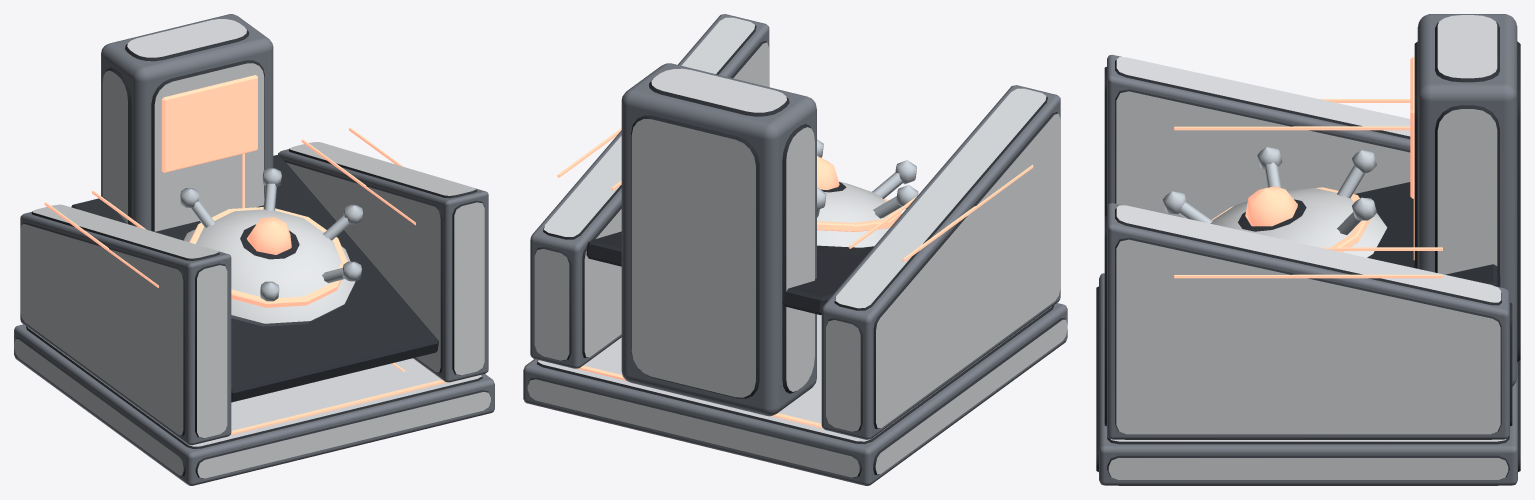
Rendered from R4X_ExplosiveTrapDeployer.fbx.
The picture shows the model from 3 angles, left to right: view 1: azimuth 30°, elevation 25°; view 2: azimuth 150°, elevation 25°; view 3: azimuth 270°, elevation 25°; orthographic projection. The views are drawn at different scales.
Visible parts, largest first — view 1: R4X_ExplosiveTrapDeployer_Body, R4X_ExplosiveTrapDeployer_Payload; view 2: R4X_ExplosiveTrapDeployer_Body, R4X_ExplosiveTrapDeployer_Payload; view 3: R4X_ExplosiveTrapDeployer_Body, R4X_ExplosiveTrapDeployer_Payload.
Part boxes in pixels (bbox=[...]): R4X_ExplosiveTrapDeployer_Body: bbox=[14, 14, 494, 485]; R4X_ExplosiveTrapDeployer_Payload: bbox=[180, 168, 362, 326]; R4X_ExplosiveTrapDeployer_Body: bbox=[523, 14, 1067, 485]; R4X_ExplosiveTrapDeployer_Payload: bbox=[817, 139, 918, 255]; R4X_ExplosiveTrapDeployer_Body: bbox=[1096, 14, 1520, 485]; R4X_ExplosiveTrapDeployer_Payload: bbox=[1162, 147, 1387, 258].
Bounding box in the file's own units: 0.52 × 0.48 × 0.52.
